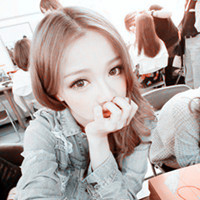face: (67, 35, 130, 128)
